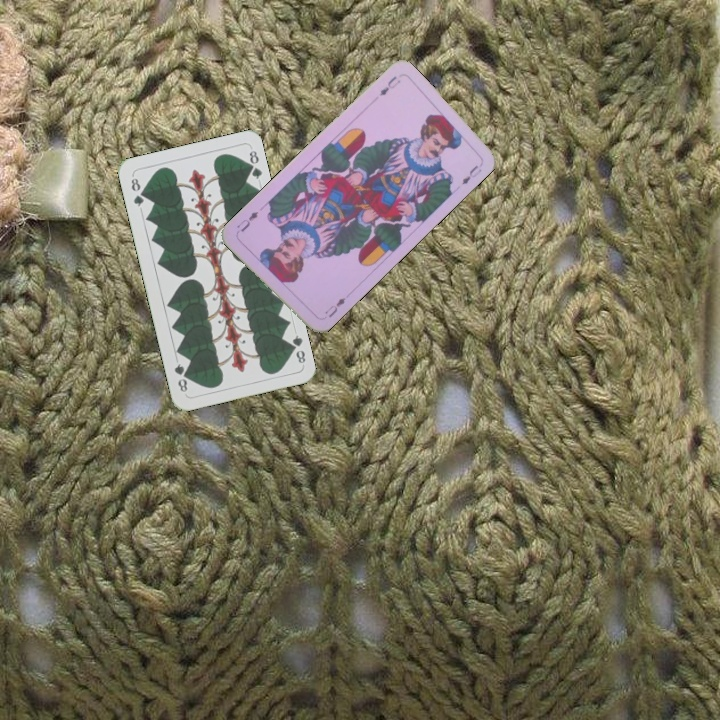EU: (320, 293, 348, 320), (376, 72, 403, 99)
G8: (285, 331, 308, 366), (127, 174, 147, 209)
